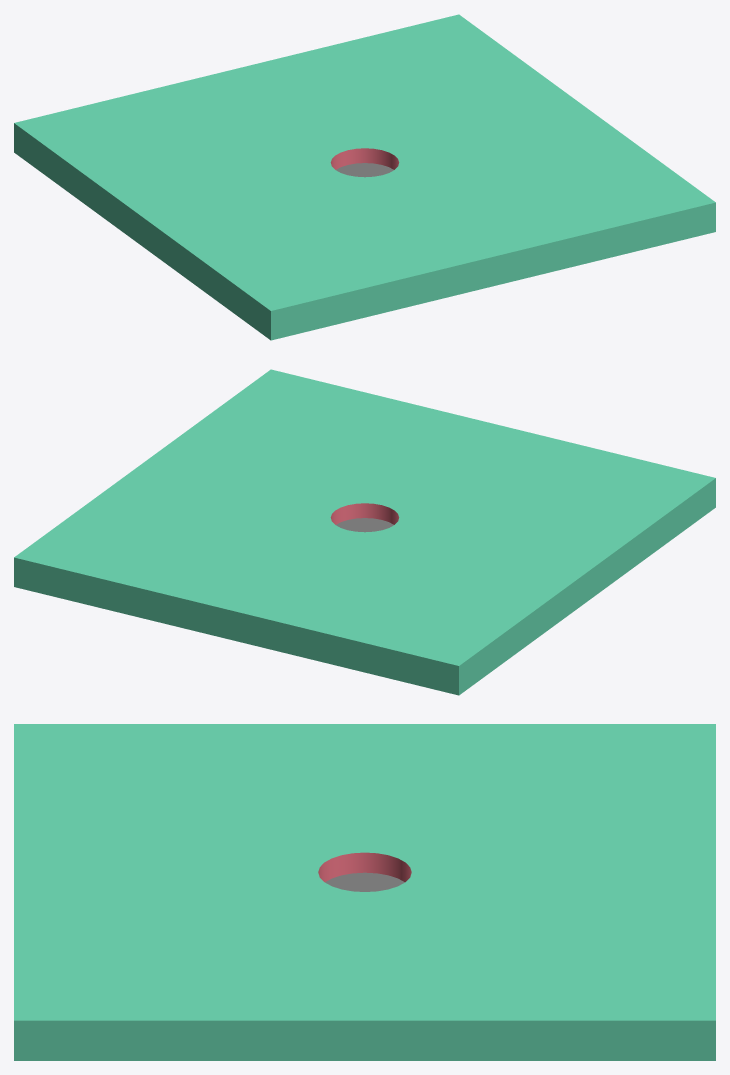
File: holeOpen.glb
The picture shows the model from 3 angles, top to bottom: view 1: azimuth 30°, elevation 25°; view 2: azimuth 150°, elevation 25°; view 3: azimuth 270°, elevation 25°; orthographic projection. The views are drawn at different scales.
Visible parts, largest first — view 1: holeOpen; view 2: holeOpen; view 3: holeOpen.
Boxes of the visible parts, x1,y1,x2,y2 form: holeOpen: (14,14,715,340); holeOpen: (14,369,715,695); holeOpen: (14,724,715,1060).
Size of the model in its own units: 0.9999 by 0.0633 by 0.9999.
